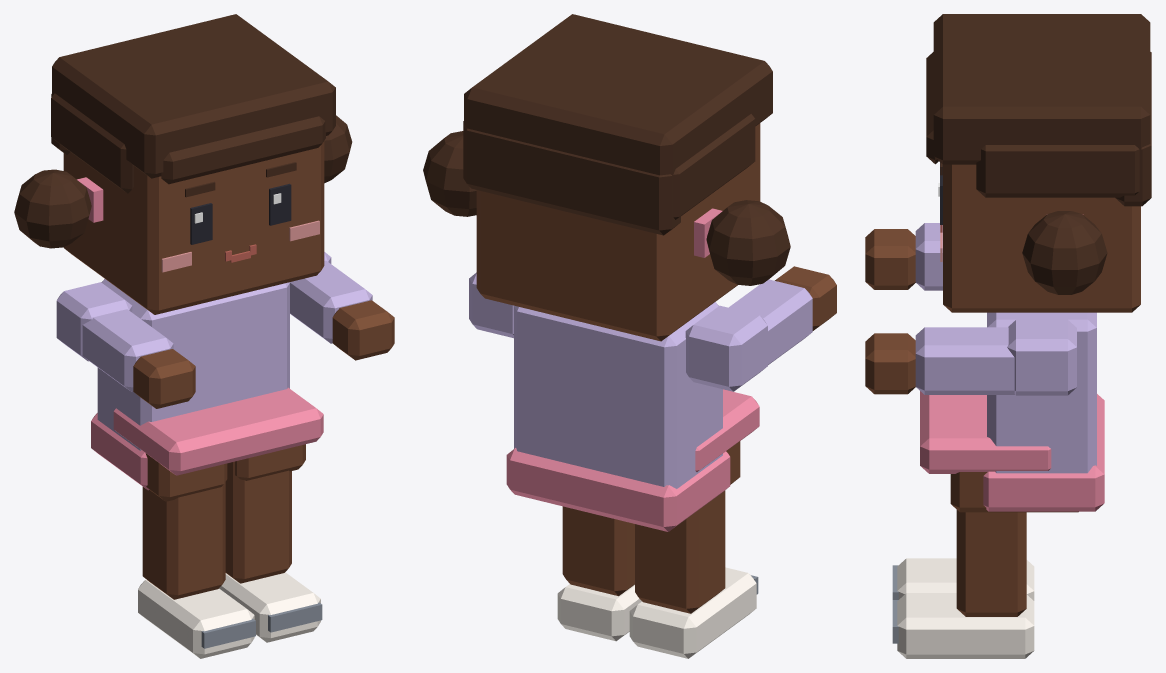
File: CatCafe_NPC_Customer_G_Sit.glb
The picture shows the model from 3 angles, left to right: view 1: azimuth 30°, elevation 25°; view 2: azimuth 150°, elevation 25°; view 3: azimuth 270°, elevation 25°; orthographic projection. The views are drawn at different scales.
Parts seen in each view (by area): view 1: CatCafe_NPC_Customer_G_Sit; view 2: CatCafe_NPC_Customer_G_Sit; view 3: CatCafe_NPC_Customer_G_Sit.
Boxes of the visible parts, bbox=[...] form: CatCafe_NPC_Customer_G_Sit: bbox=[14, 14, 394, 658]; CatCafe_NPC_Customer_G_Sit: bbox=[423, 14, 836, 658]; CatCafe_NPC_Customer_G_Sit: bbox=[865, 14, 1151, 658].
Bounding box in the file's own units: 2.65 × 4.12 × 1.88.
Materials: 1 (1 with a texture image).
